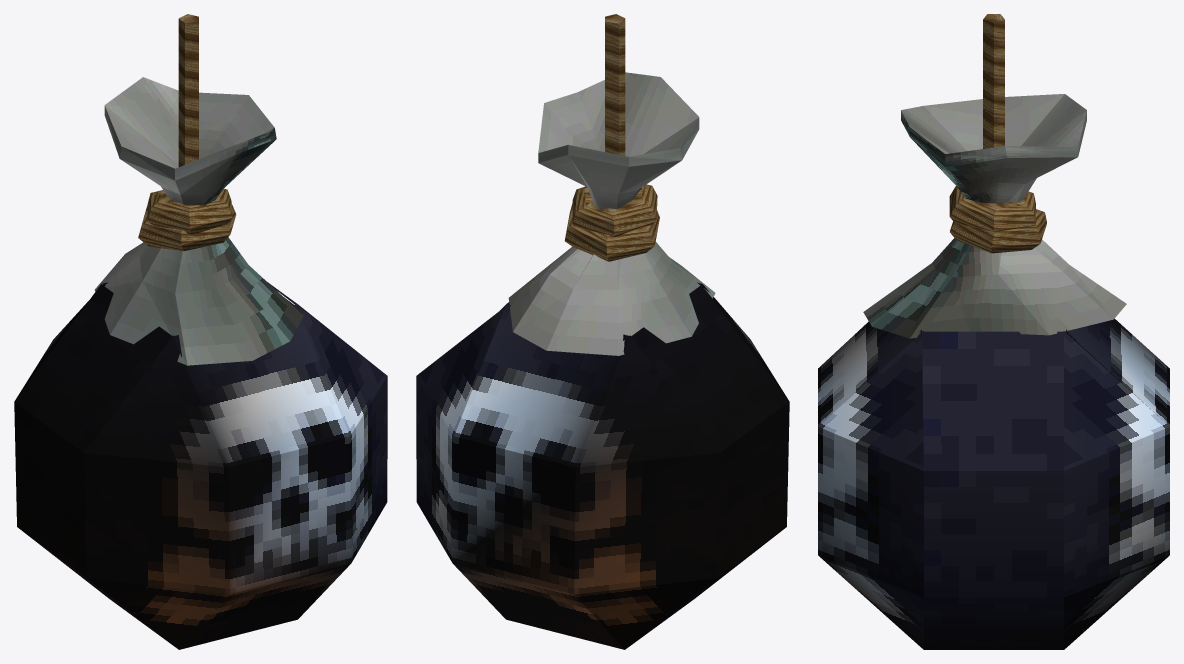
Rendered from sack-lod0.glb.
3 views of the same model, side by side, from view 1: azimuth 30°, elevation 25°; view 2: azimuth 150°, elevation 25°; view 3: azimuth 270°, elevation 25° (orthographic).
Visible parts, largest first — view 1: bomb_hi, sack-lod0; view 2: bomb_hi, sack-lod0; view 3: bomb_hi, sack-lod0.
Boxes of the visible parts, bbox=[...] form: bomb_hi: bbox=[14, 282, 387, 649]; sack-lod0: bbox=[94, 14, 303, 365]; bomb_hi: bbox=[416, 282, 789, 649]; sack-lod0: bbox=[508, 14, 715, 355]; bomb_hi: bbox=[818, 318, 1169, 649]; sack-lod0: bbox=[863, 14, 1126, 338].
Size of the model in its own units: 1.94 by 3.63 by 1.94.
Materials: 4 (4 with a texture image).
